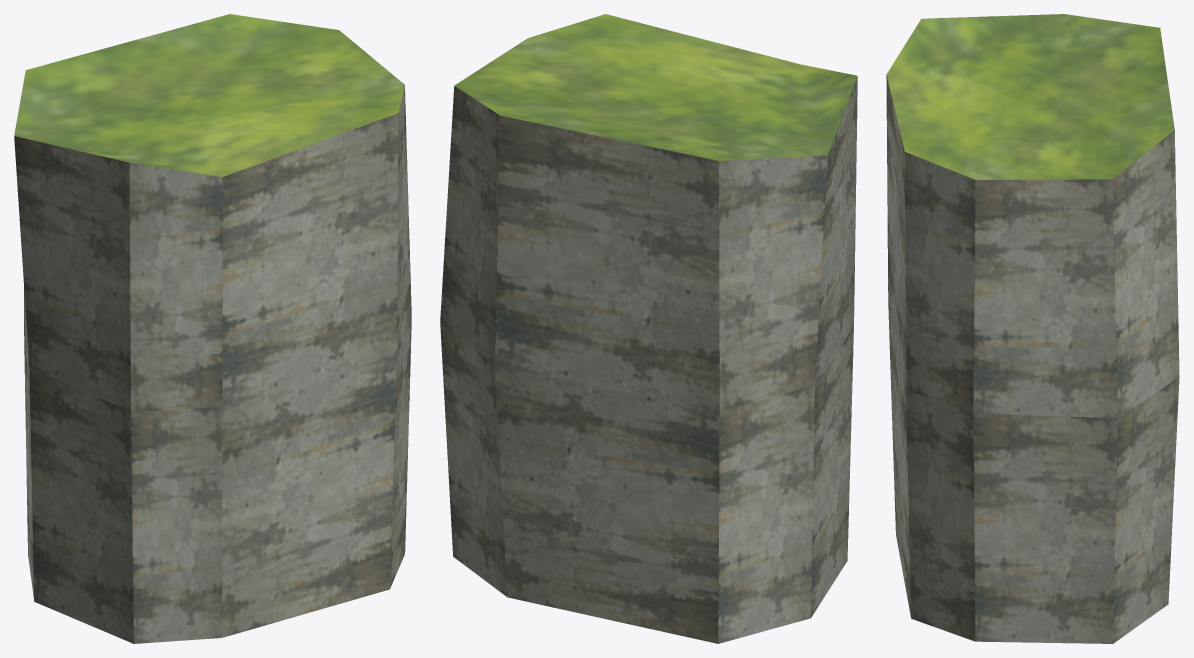
The model's file is Cliff_Block_A.glb.
The picture shows the model from 3 angles, left to right: view 1: azimuth 30°, elevation 25°; view 2: azimuth 150°, elevation 25°; view 3: azimuth 270°, elevation 25°; orthographic projection.
Visible parts, largest first — view 1: Cliff_Block_A; view 2: Cliff_Block_A; view 3: Cliff_Block_A.
Boxes of the visible parts, x1=… form: Cliff_Block_A: x1=14, y1=14, x2=411, y2=643; Cliff_Block_A: x1=440, y1=14, x2=857, y2=643; Cliff_Block_A: x1=886, y1=14, x2=1179, y2=643.
Size of the model in its own units: 4.27 by 5.48 by 3.05.
Materials: 1 (1 with a texture image).
